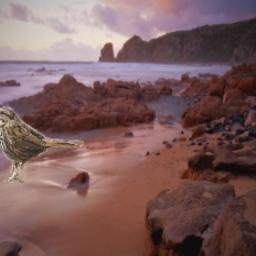Sparrow: (0, 105, 83, 183)
